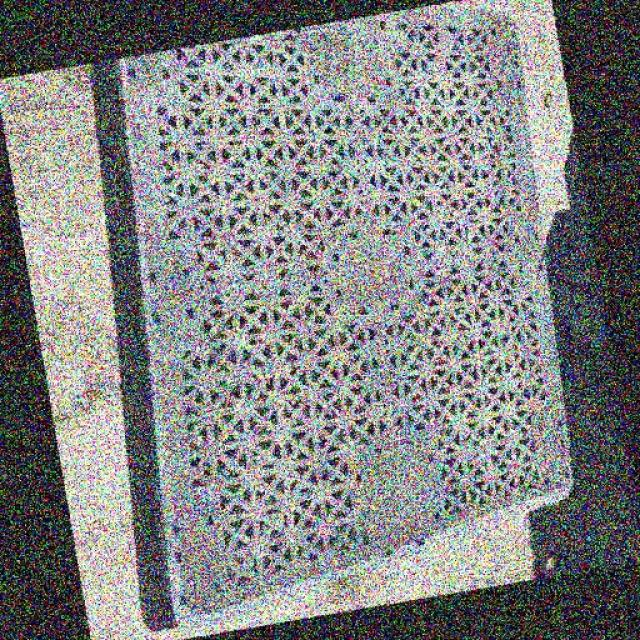non-igps: (109, 0, 585, 633)
